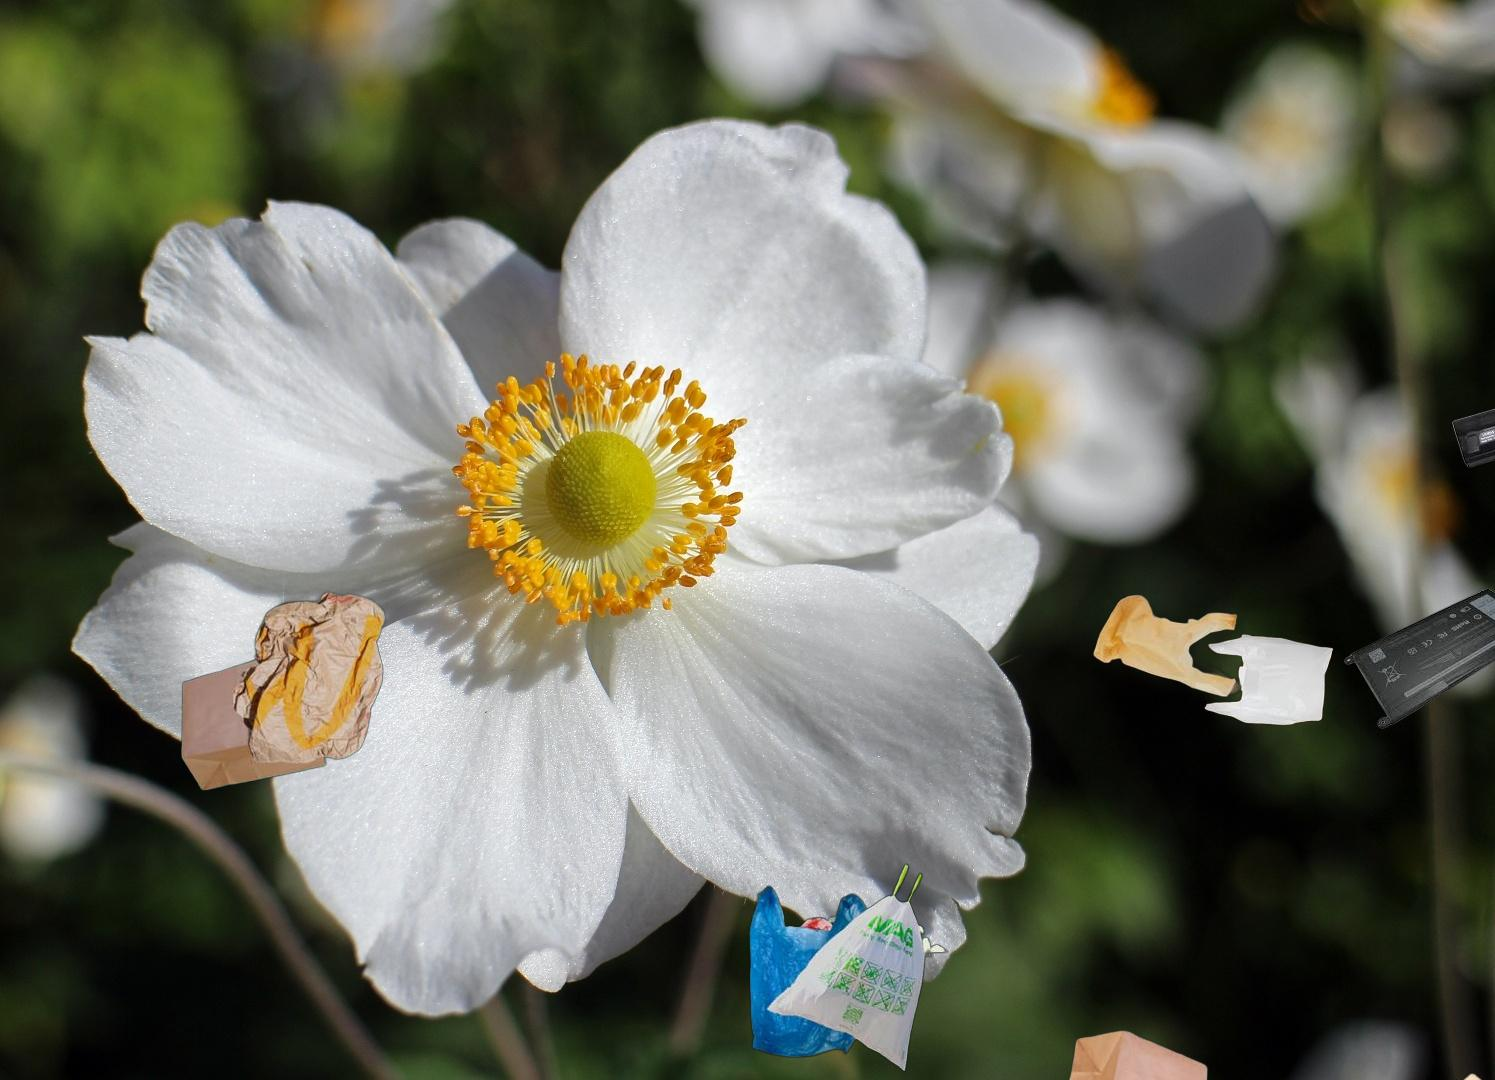battery: (1342, 586, 1495, 730), (1451, 340, 1495, 470)
paper-bag: (180, 589, 388, 794), (1048, 1027, 1211, 1080), (1409, 1070, 1495, 1080)
plastic-bag: (748, 861, 951, 1073), (1091, 592, 1335, 728)
